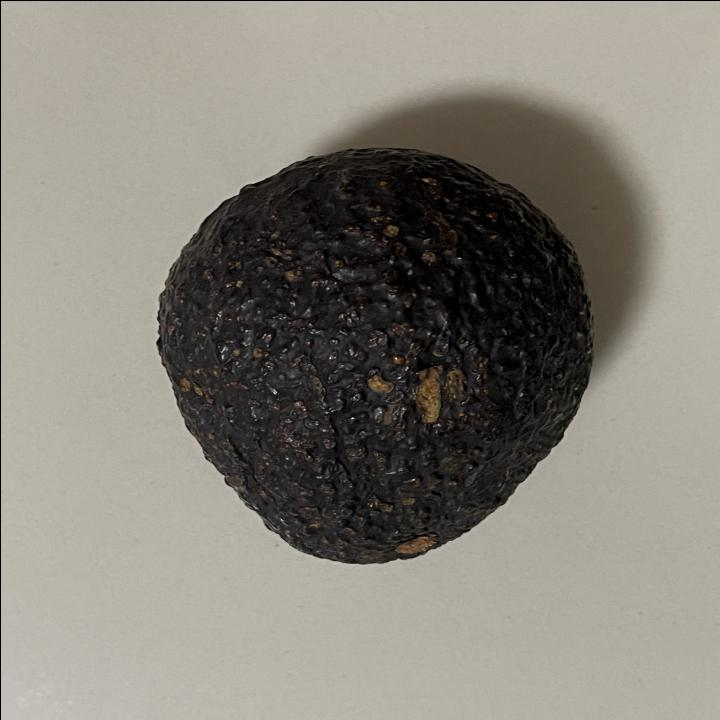Level3: (139, 136, 601, 570)
